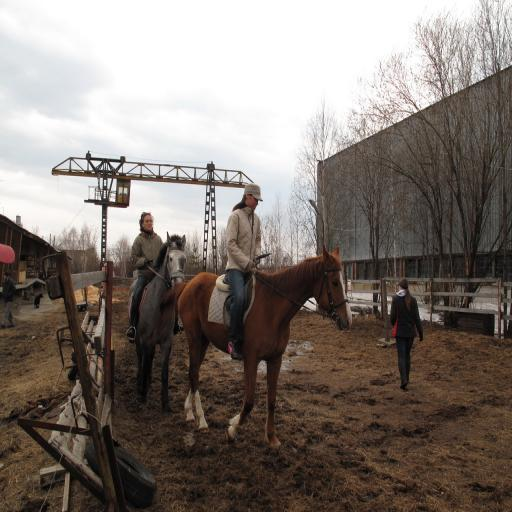horse: (149, 244, 352, 449), (127, 231, 187, 417)
